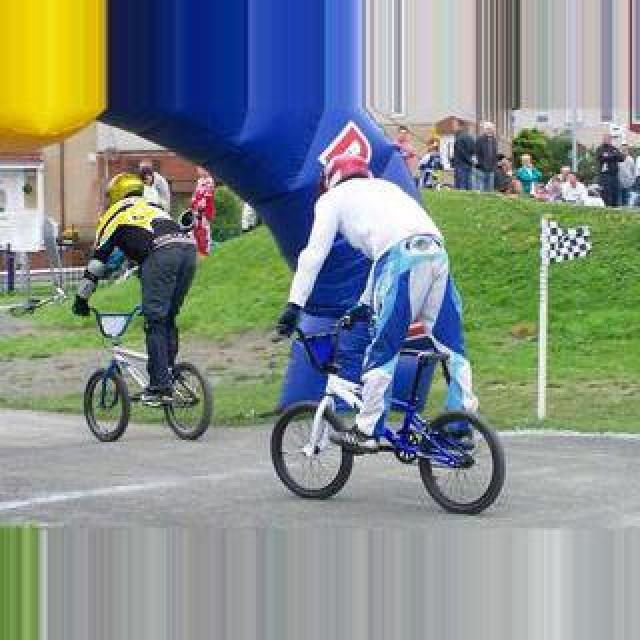MC-Bike: (274, 130, 482, 476), (74, 168, 206, 412), (188, 166, 216, 256), (446, 118, 478, 192), (140, 162, 172, 212)
Person: (266, 312, 508, 514), (82, 300, 214, 442)
